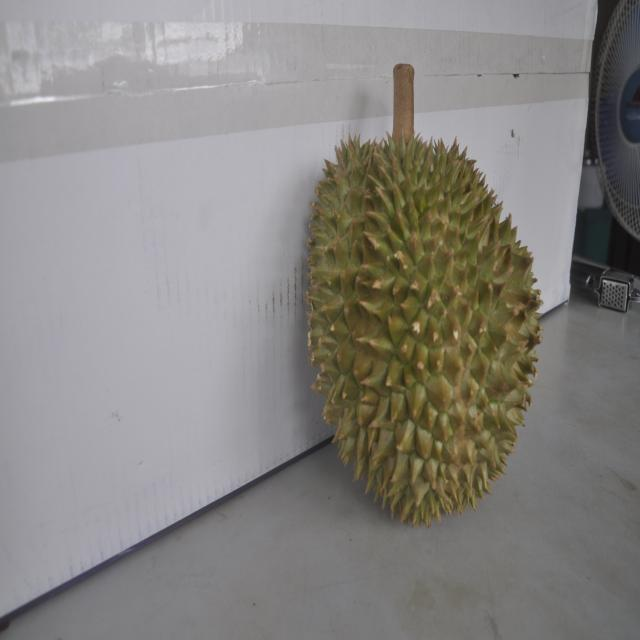mature: (310, 113, 542, 523)
